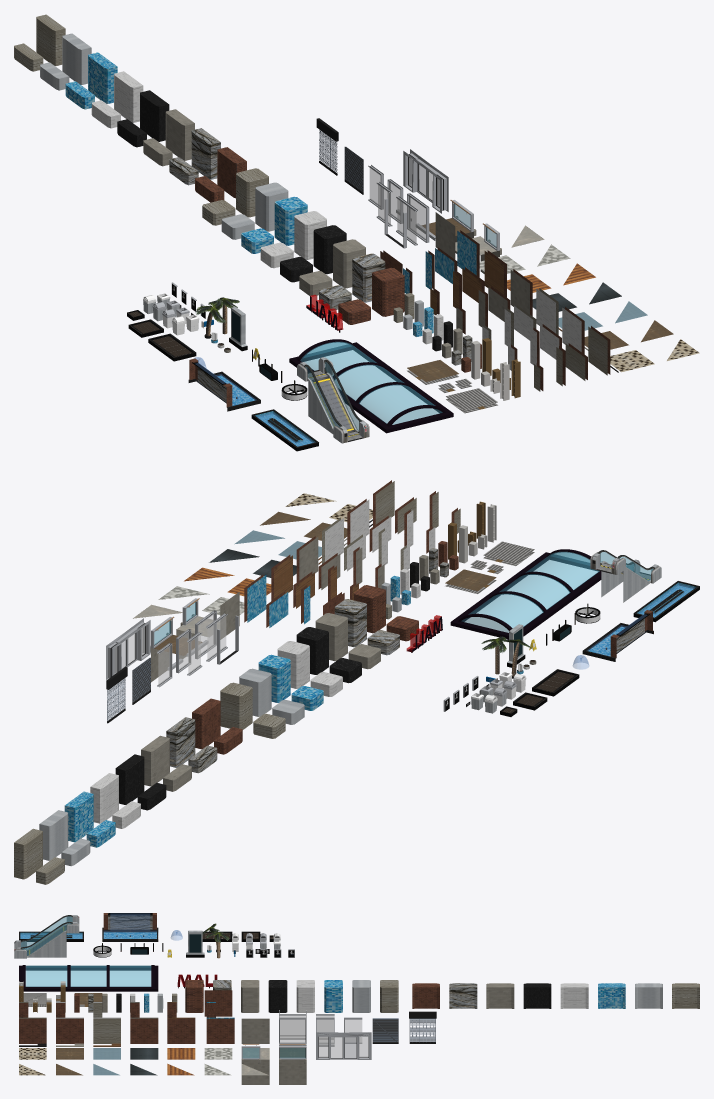
File: DealStealer-ModelKit.fbx
3 renders of one model, top to bottom at view 1: azimuth 30°, elevation 25°; view 2: azimuth 150°, elevation 25°; view 3: azimuth 270°, elevation 25°, orthographic. The views are drawn at different scales.
Parts seen in each view (by area): view 1: Skylight.Glass, Skylight, Escalator, Rock Wall Fountain.Base, Support Pillar.Brick, Entrance.Base, Fountain.Base, Wall Pillar.Plaster, Wall Pillar.Rock, Wall Pillar.Concrete, Wall Pillar.Aluminium, Wall Pillar.Blue Tile (+22 smaller); view 2: Skylight.Glass, Skylight, Escalator, Rock Wall Fountain.Base, Support Pillar.Plaster, Entrance.Base, Wall Pillar.Plaster, Fountain.Base, Wall Pillar.Aluminium, Wall Pillar.Rock, Wall Pillar.Blue Tile, Wall Pillar.Granite (+24 smaller); view 3: Skylight.Glass, Skylight, Rock Wall Fountain.Base, Escalator, Wall D, Wall E, Wall F, Wall A, Wall B, Wall C, Concrete Wall, Wall Pillar.Concrete (+37 smaller).
Boxes of the visible parts, x1,y1,x2,y2 form: Skylight.Glass: (300, 341, 442, 424); Skylight: (289, 339, 453, 433); Escalator: (297, 357, 369, 443); Rock Wall Fountain.Base: (188, 358, 260, 411); Support Pillar.Brick: (372, 267, 404, 316); Entrance.Base: (403, 149, 448, 213); Fountain.Base: (251, 409, 318, 451); Wall Pillar.Plaster: (36, 14, 65, 65); Wall Pillar.Rock: (191, 128, 220, 179); Wall Pillar.Concrete: (165, 109, 194, 160); Wall Pillar.Aluminium: (62, 33, 91, 84); Wall Pillar.Blue Tile: (88, 52, 117, 103); Skylight.Glass: (461, 551, 599, 632); Skylight: (450, 549, 601, 639); Escalator: (590, 550, 661, 602); Rock Wall Fountain.Base: (582, 610, 653, 661); Support Pillar.Plaster: (220, 682, 252, 729); Entrance.Base: (106, 618, 150, 679); Wall Pillar.Plaster: (14, 828, 42, 879); Fountain.Base: (633, 581, 699, 622); Wall Pillar.Aluminium: (39, 810, 68, 860); Wall Pillar.Rock: (166, 717, 195, 767); Wall Pillar.Blue Tile: (64, 791, 93, 842); Wall Pillar.Granite: (115, 754, 144, 804); Skylight.Glass: (25, 965, 151, 986); Skylight: (19, 965, 158, 991); Rock Wall Fountain.Base: (102, 913, 158, 941); Escalator: (14, 915, 79, 958); Wall D: (130, 1017, 158, 1043); Wall E: (167, 1017, 195, 1043); Wall F: (206, 1017, 234, 1043); Wall A: (19, 1017, 46, 1043); Wall B: (56, 1017, 83, 1043); Wall C: (93, 1017, 120, 1043); Concrete Wall: (241, 1018, 269, 1043); Wall Pillar.Concrete: (486, 983, 514, 1008).
Bounding box in the file's own units: 37 × 7.18 × 73.89.
8 materials, 6 textured.
